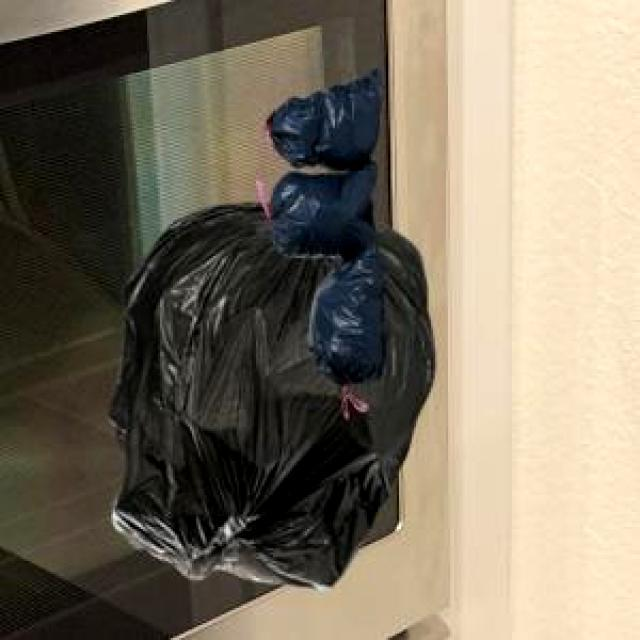Garbage_Bag: (106, 200, 432, 586), (253, 63, 381, 383)
